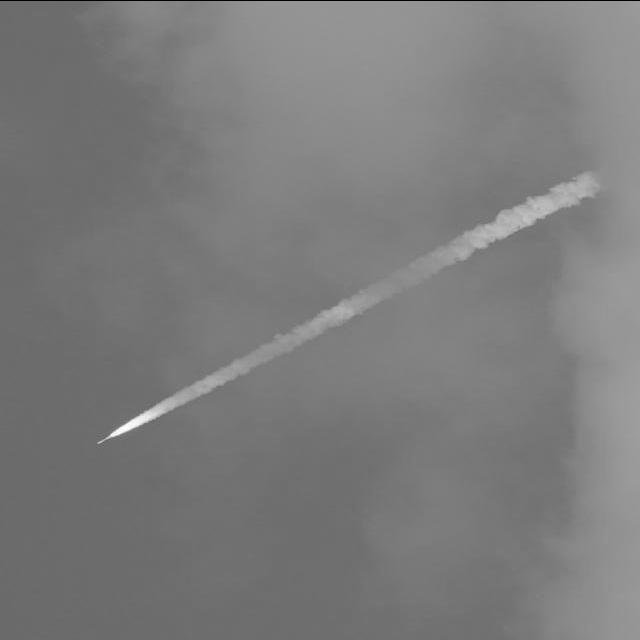missile: (95, 434, 115, 444)
